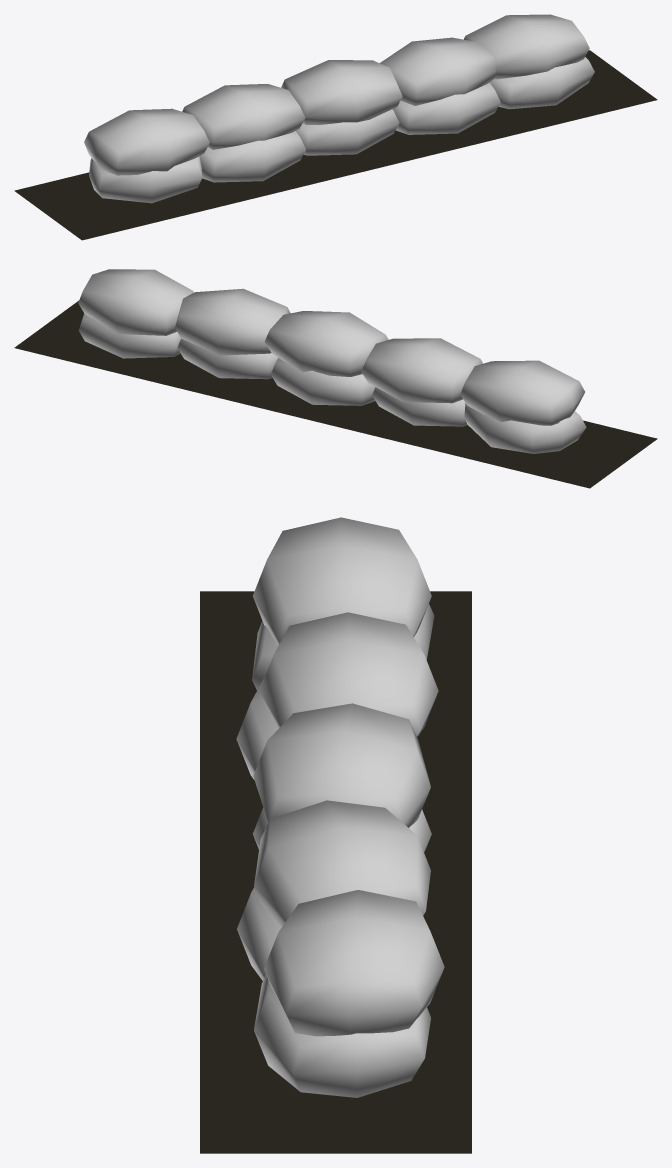
File: Sandbag_01.FBX
3 renders of one model, top to bottom at view 1: azimuth 30°, elevation 25°; view 2: azimuth 150°, elevation 25°; view 3: azimuth 270°, elevation 25°, orthographic. The views are drawn at different scales.
Parts seen in each view (by area): view 1: sandbag_01, Plane030; view 2: sandbag_01, Plane030; view 3: sandbag_01, Plane030.
Boxes of the visible parts, box(x1,y1,x2,y2) form: sandbag_01: box(84, 14, 594, 203); Plane030: box(14, 50, 657, 240); sandbag_01: box(78, 269, 586, 453); Plane030: box(14, 300, 657, 488); sandbag_01: box(236, 517, 444, 1097); Plane030: box(200, 591, 471, 1153).
Size of the model in its own units: 530 by 68.16 by 108.
